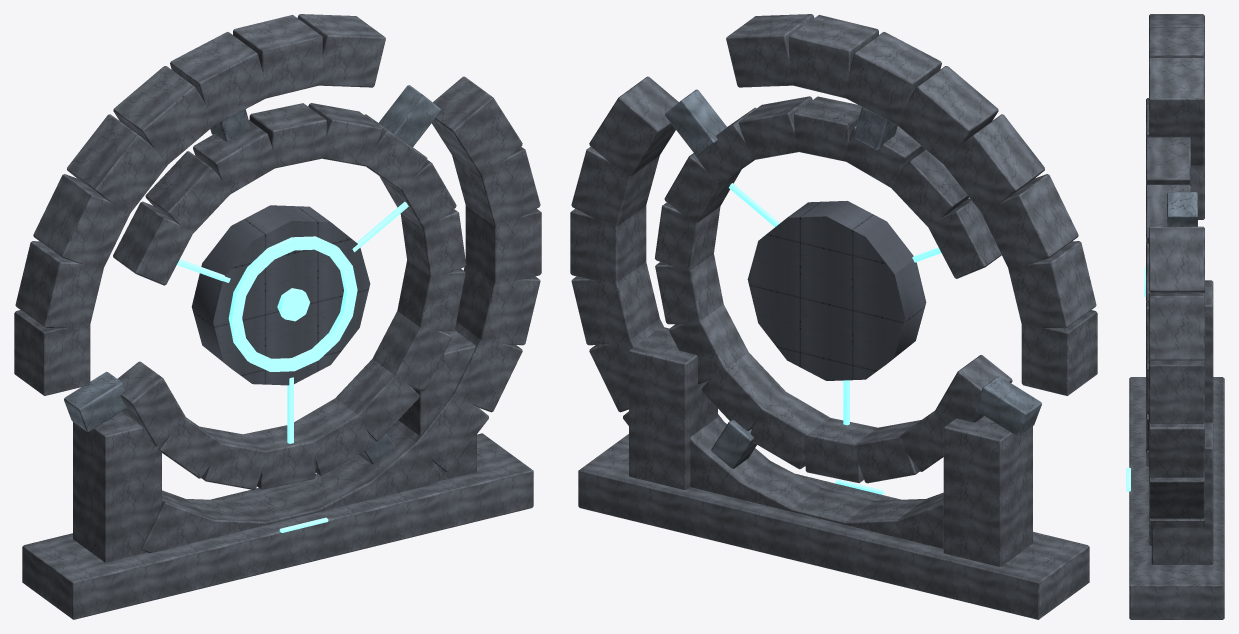
Rendered from relic_clean.glb.
3 views of the same model, side by side, from view 1: azimuth 30°, elevation 25°; view 2: azimuth 150°, elevation 25°; view 3: azimuth 270°, elevation 25° (orthographic). The views are drawn at different scales.
Parts seen in each view (by area): view 1: DL012_AncientRelic_relic_stone, DL012_AncientRelic_metal_dark, DL012_AncientRelic_emissive_teal, DL012_AncientRelic_stone_blue; view 2: DL012_AncientRelic_relic_stone, DL012_AncientRelic_metal_dark, DL012_AncientRelic_stone_blue, DL012_AncientRelic_emissive_teal; view 3: DL012_AncientRelic_relic_stone, DL012_AncientRelic_stone_blue, DL012_AncientRelic_emissive_teal.
Part boxes in pixels (x1,y1,x2,y2): DL012_AncientRelic_relic_stone: [14, 14, 541, 619]; DL012_AncientRelic_metal_dark: [191, 205, 370, 385]; DL012_AncientRelic_emissive_teal: [177, 201, 408, 532]; DL012_AncientRelic_stone_blue: [64, 85, 440, 464]; DL012_AncientRelic_relic_stone: [570, 14, 1097, 619]; DL012_AncientRelic_metal_dark: [747, 201, 926, 380]; DL012_AncientRelic_stone_blue: [665, 89, 1041, 468]; DL012_AncientRelic_emissive_teal: [729, 183, 941, 494]; DL012_AncientRelic_relic_stone: [1129, 14, 1224, 619]; DL012_AncientRelic_stone_blue: [1167, 192, 1197, 226]; DL012_AncientRelic_emissive_teal: [1126, 267, 1145, 491].
Bounding box in the file's own units: 9.5 × 9.5 × 1.75.
Materials: 4 (3 with a texture image).
